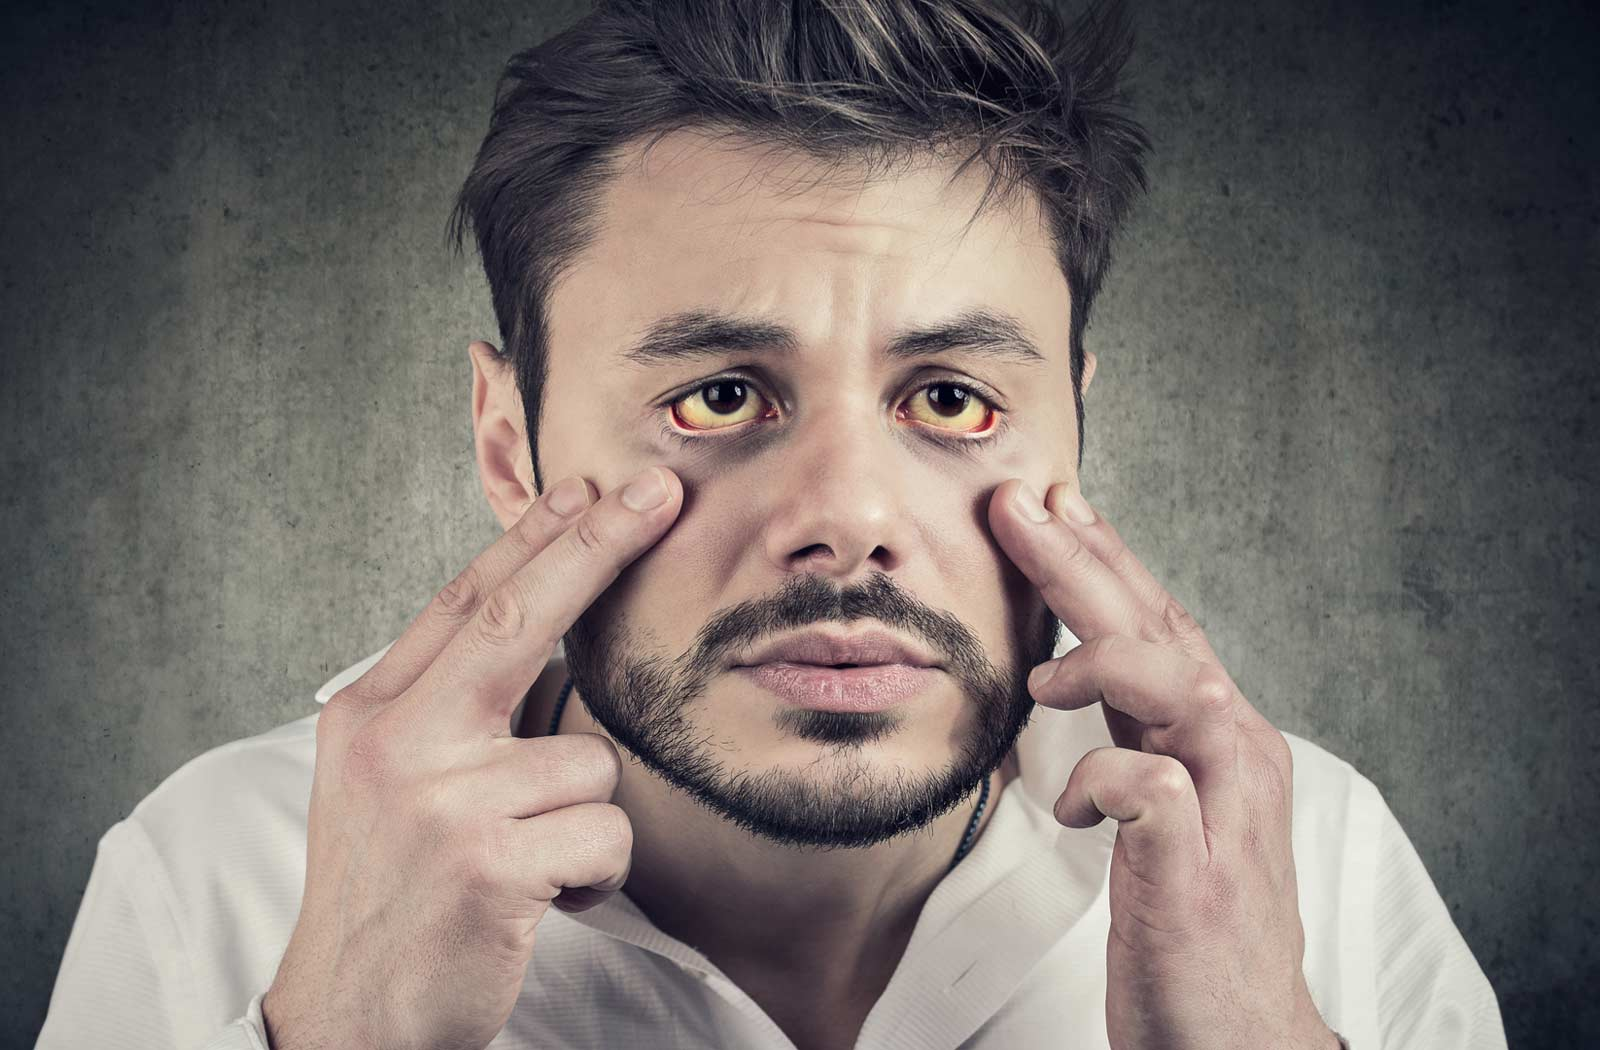human: (37, 5, 1512, 1050)
